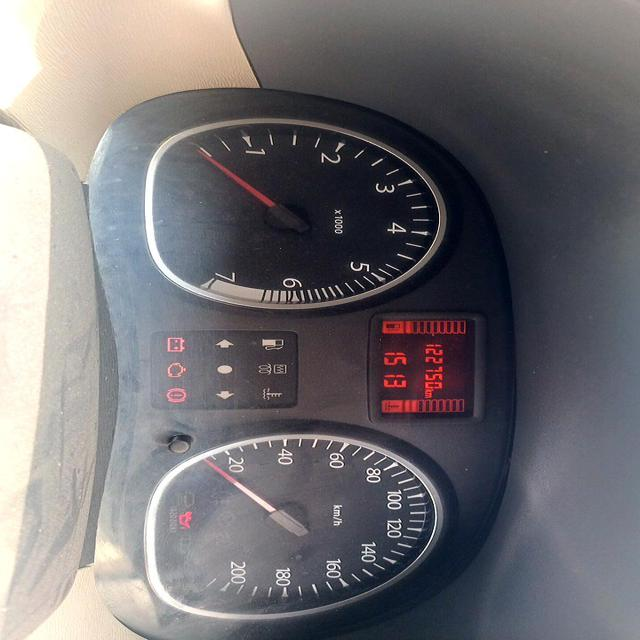odometer: (421, 340, 447, 393)
